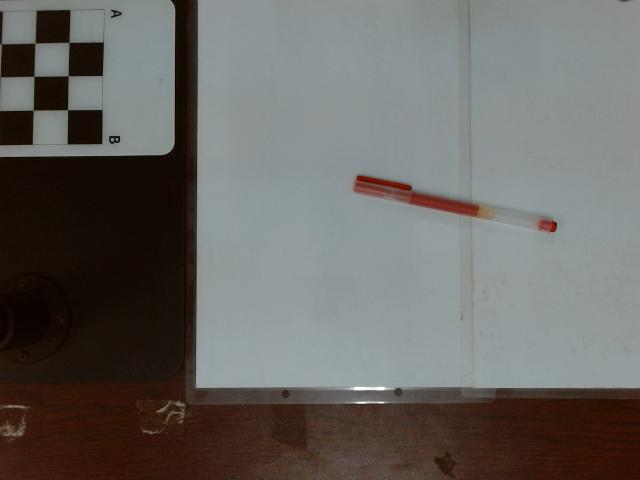PEN: (352, 173, 558, 239)
